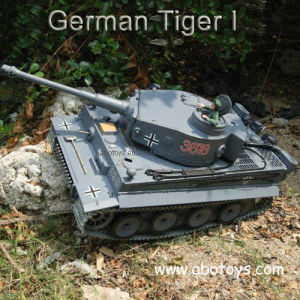Battle Tank: (1, 60, 297, 244)
